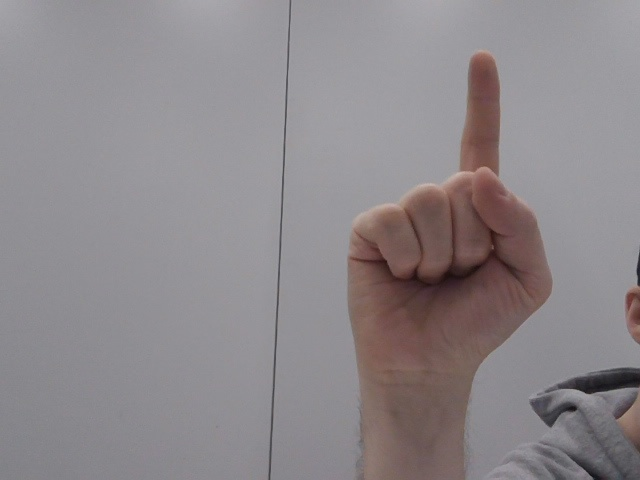up: (305, 35, 573, 417)
